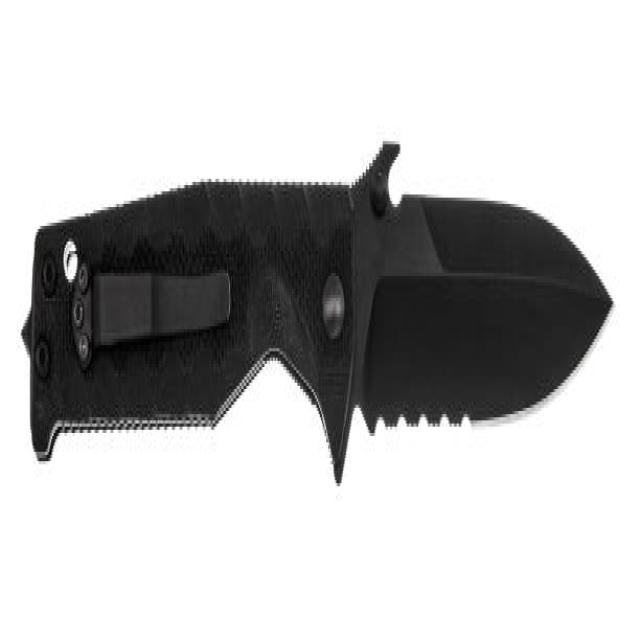knife: (18, 122, 618, 526)
